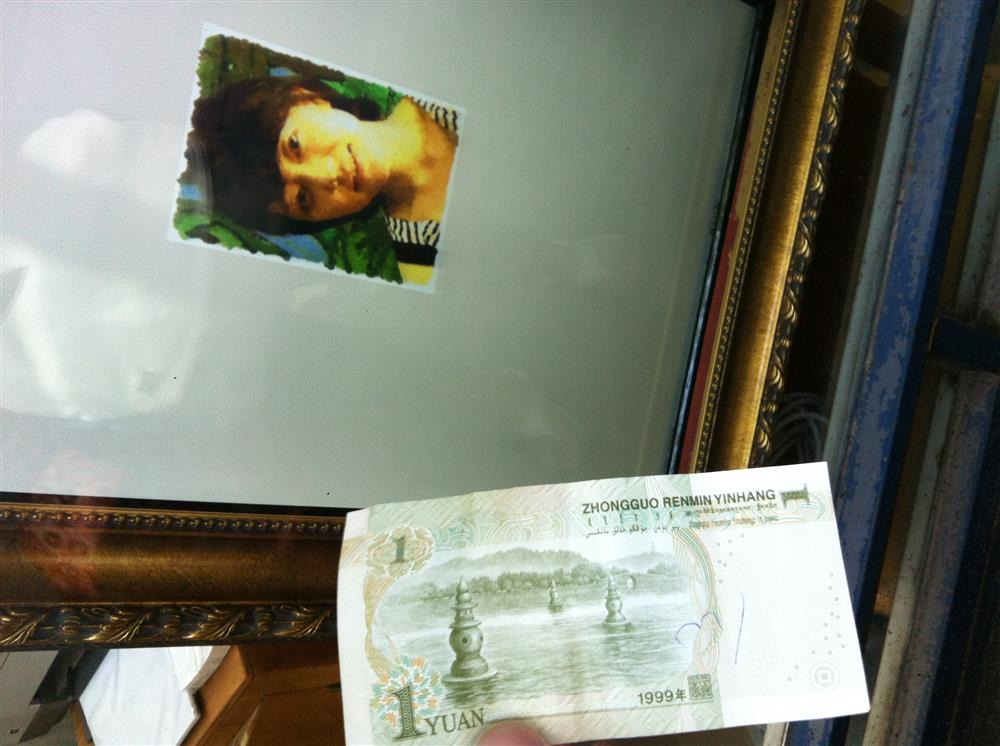1yuan: (333, 461, 871, 743)
